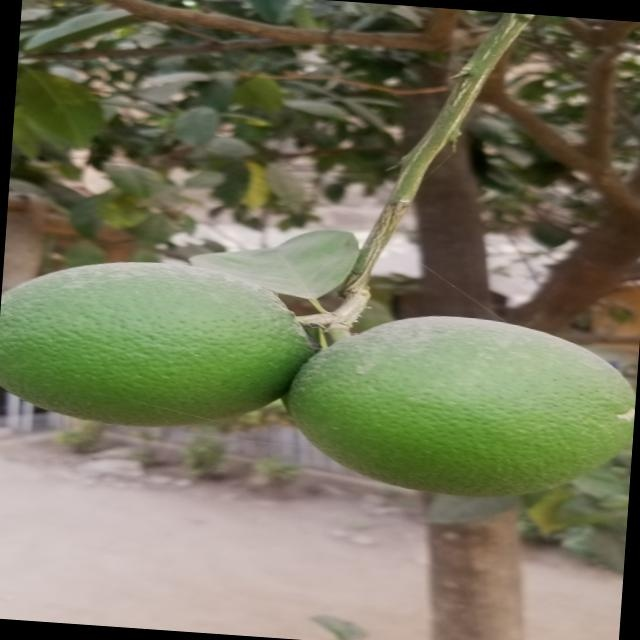agrume: (278, 304, 634, 510), (0, 251, 306, 432)
